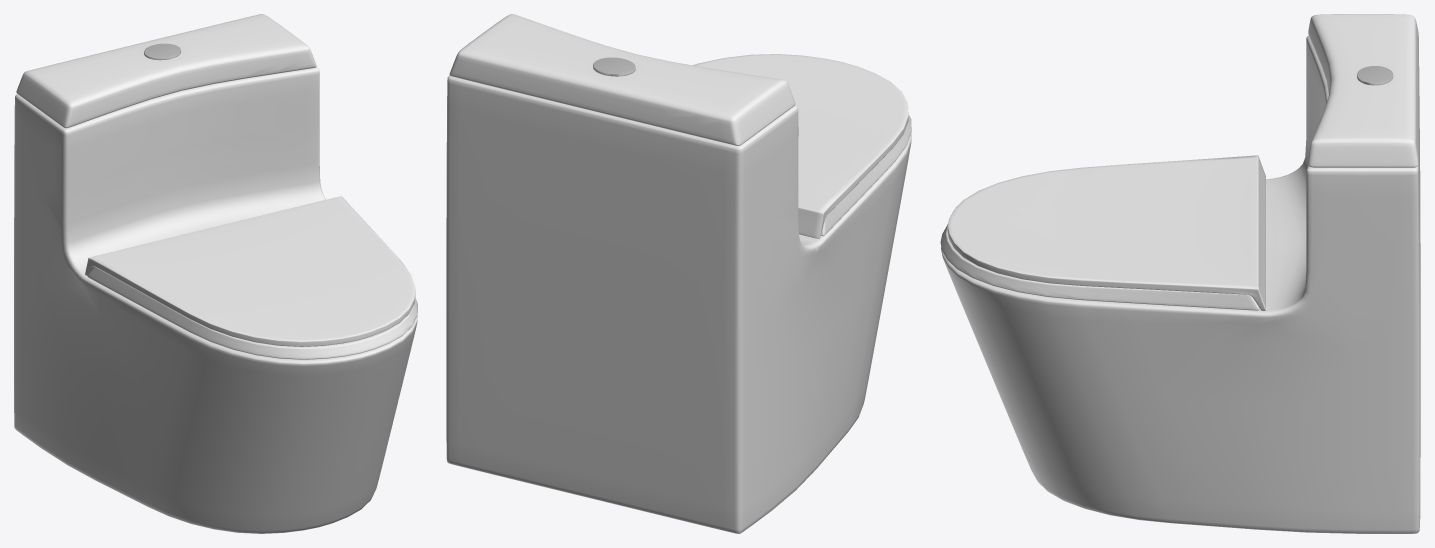
Rendered from Sanitary ware _009.gltf.
3 views of the same model, side by side, from view 1: azimuth 30°, elevation 25°; view 2: azimuth 150°, elevation 25°; view 3: azimuth 270°, elevation 25° (orthographic). The views are drawn at different scales.
Visible parts, largest first — view 1: Sanitary ware _009; view 2: Sanitary ware _009; view 3: Sanitary ware _009.
Part boxes in pixels (bbox=[...]): Sanitary ware _009: bbox=[14, 14, 417, 533]; Sanitary ware _009: bbox=[446, 14, 911, 533]; Sanitary ware _009: bbox=[940, 14, 1420, 533].
Size of the model in its own units: 0.498 by 0.67 by 0.74.
Materials: 1 (1 with a texture image).
